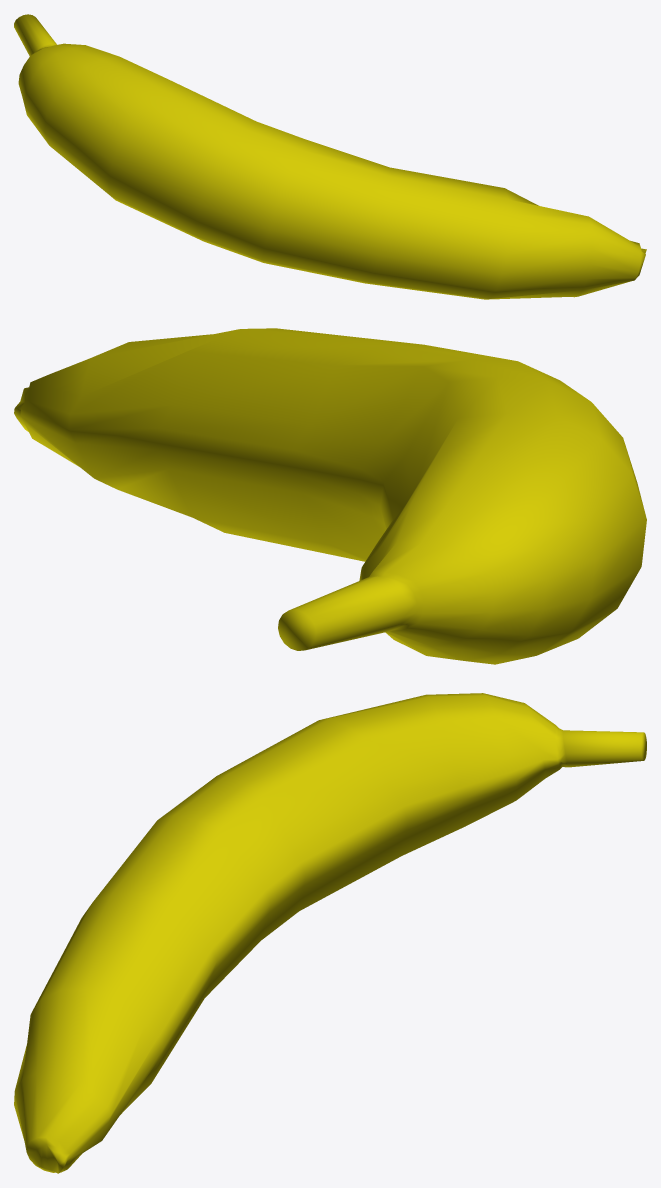
Rendered from fruit_02.dae.
The picture shows the model from 3 angles, top to bottom: view 1: azimuth 30°, elevation 25°; view 2: azimuth 150°, elevation 25°; view 3: azimuth 270°, elevation 25°; orthographic projection. The views are drawn at different scales.
Parts seen in each view (by area): view 1: banana; view 2: banana; view 3: banana.
Boxes of the visible parts, box(x1,y1,x2,y2) form: banana: box(14, 14, 646, 299); banana: box(14, 328, 646, 664); banana: box(14, 693, 646, 1173).
Bounding box in the file's own units: 3.98 × 3.95 × 1.7.
